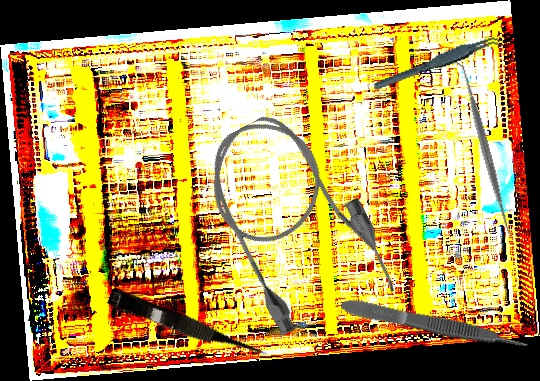Cannula: (186, 95, 405, 347)
Micro Scissor: (105, 286, 271, 368)
Spatula Surgical: (451, 57, 519, 240)
Tissue Forceps: (339, 294, 530, 357), (369, 33, 509, 92)
